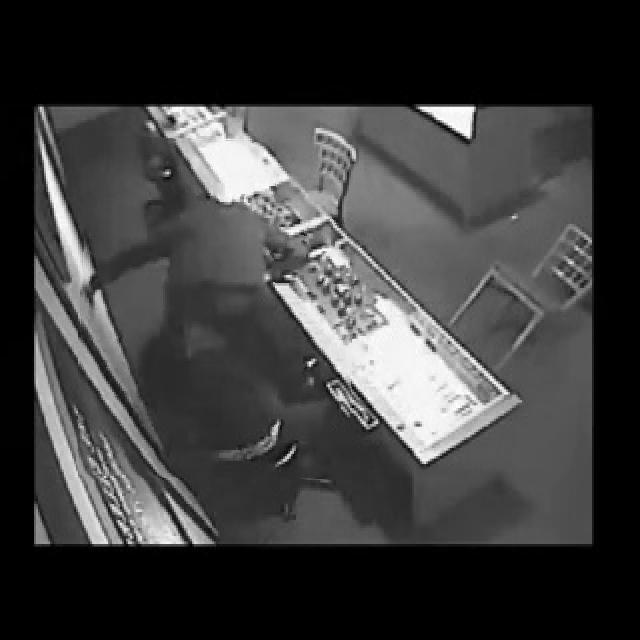Shoplifting: (78, 138, 356, 478)
